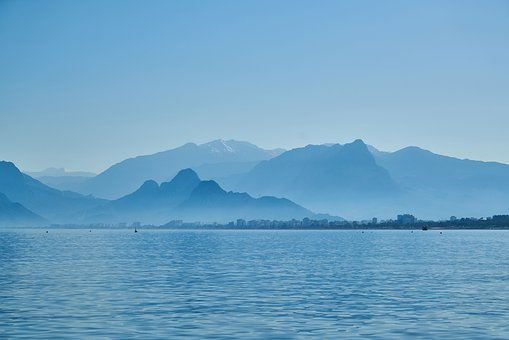mountain: (6, 141, 508, 226)
sea: (11, 231, 504, 338)
sky: (3, 5, 504, 140)
